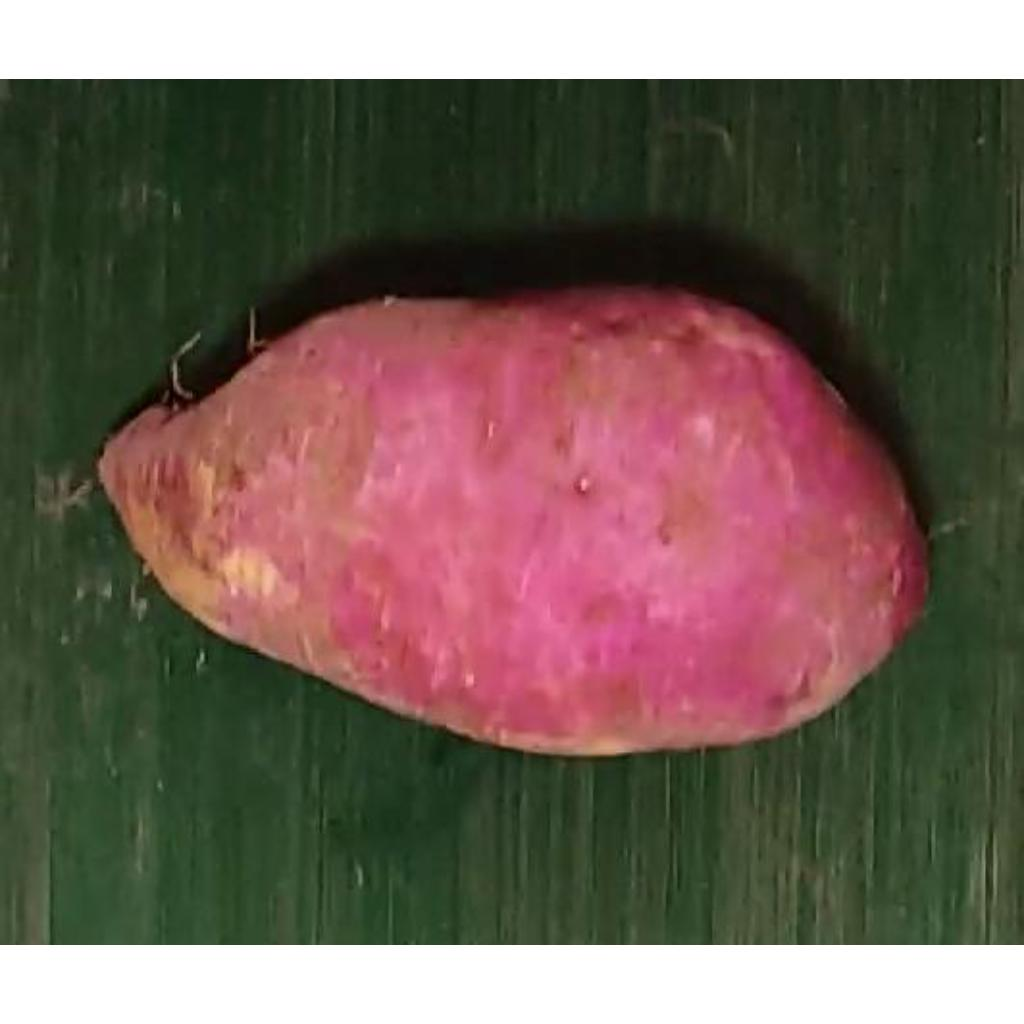Sweet Potato: (96, 287, 932, 760)
